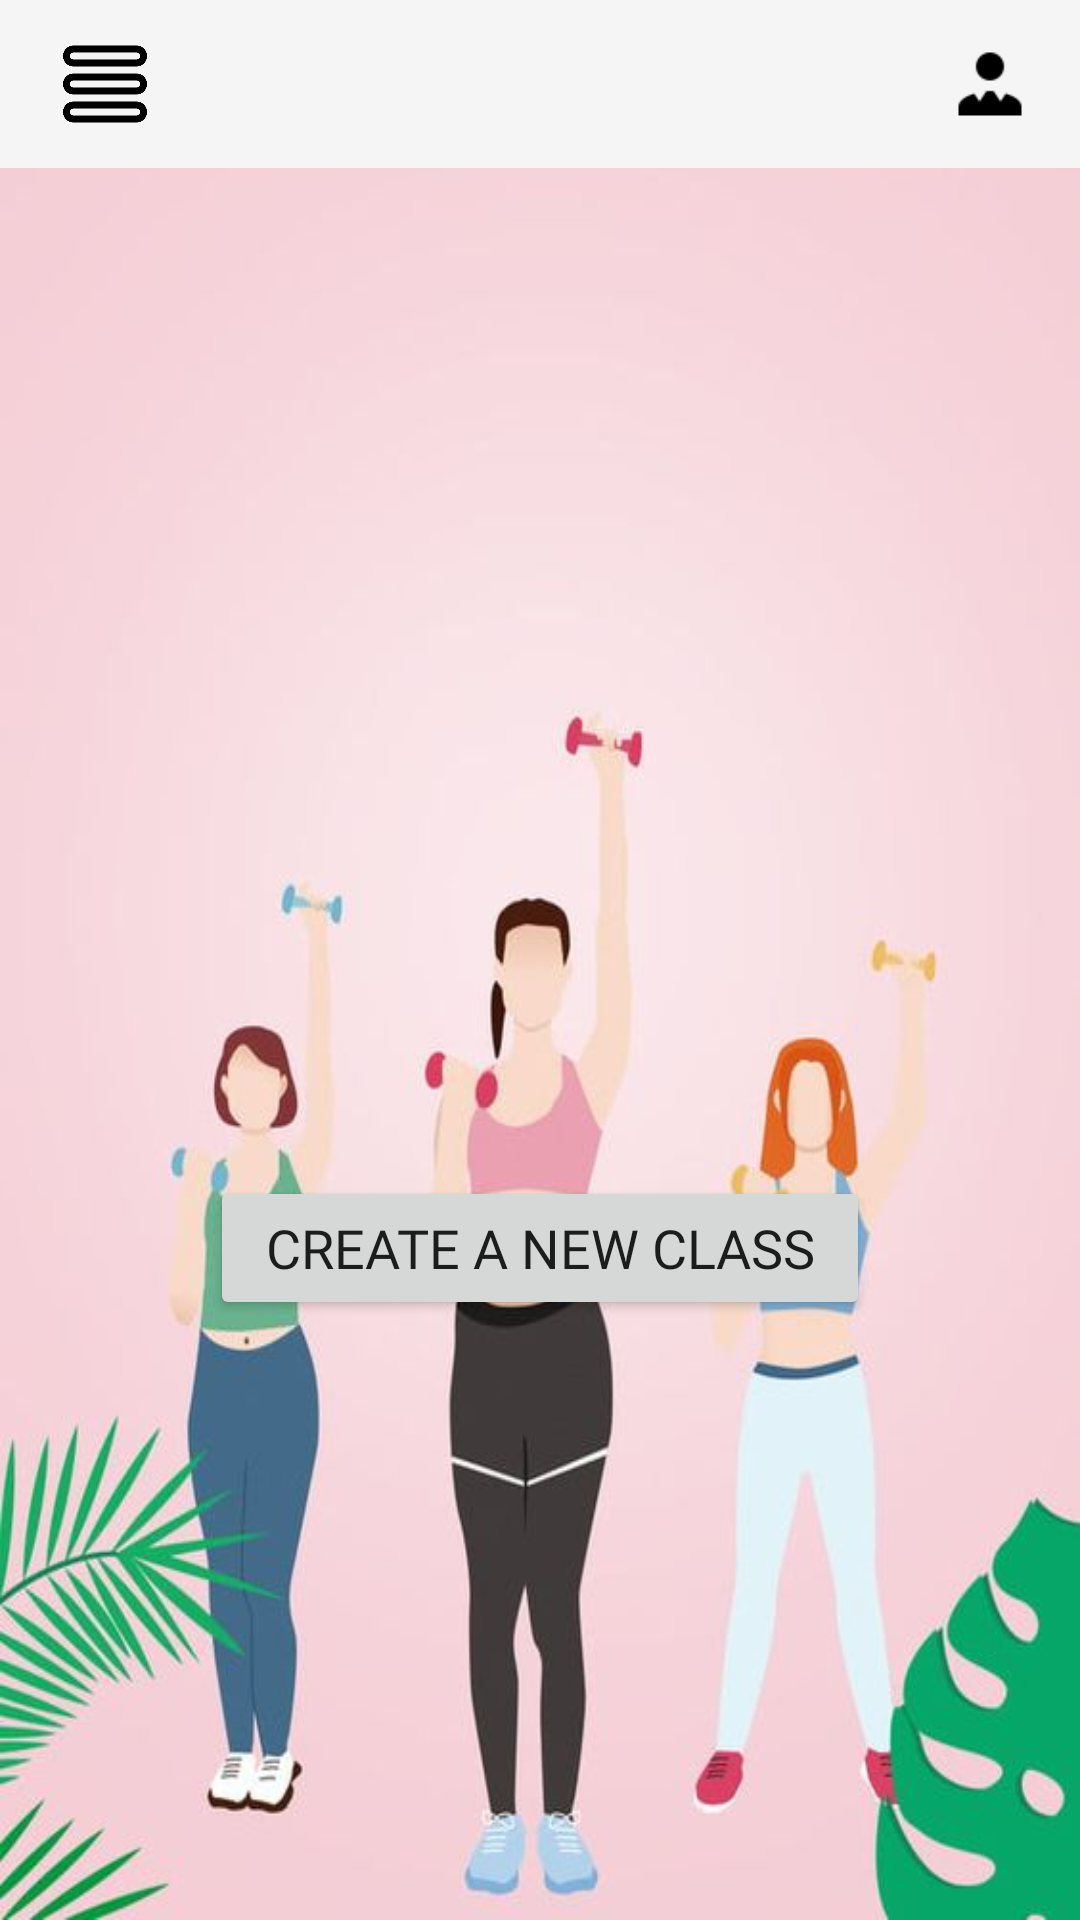

Icons on this 1080*1920 Android screen, each with its box as (x1, y1, x2, y2):
admin: (958, 52, 1022, 116)
bar left: (63, 45, 147, 123)
